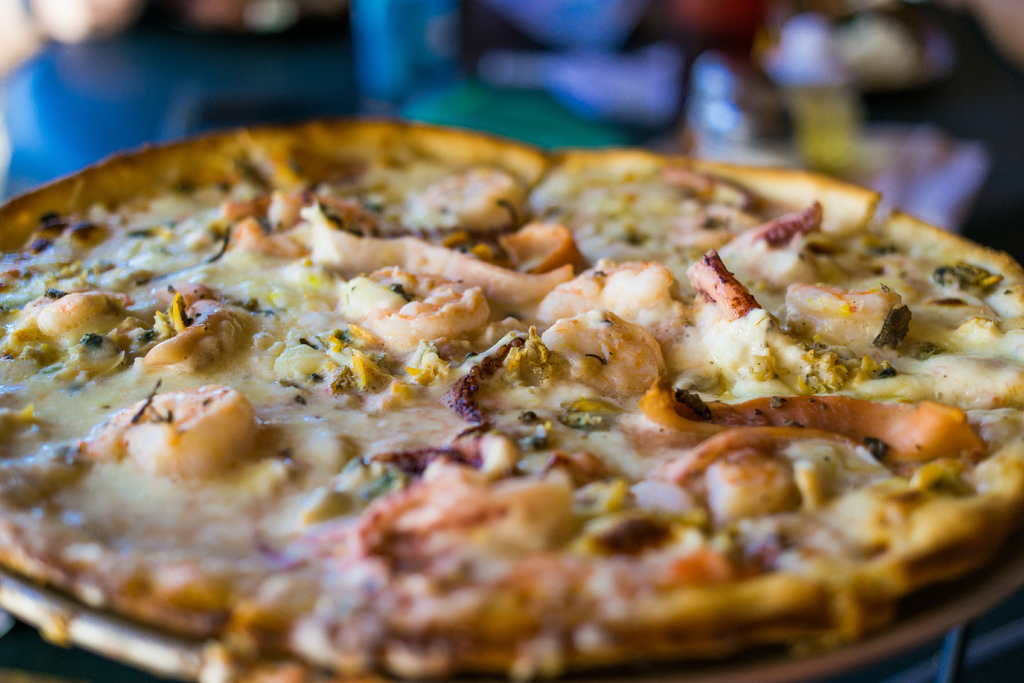Pizza: (0, 124, 1023, 673)
